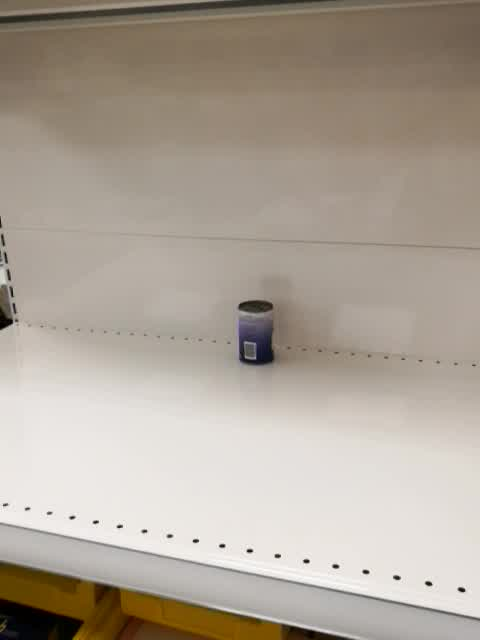sardine: (237, 299, 276, 366)
